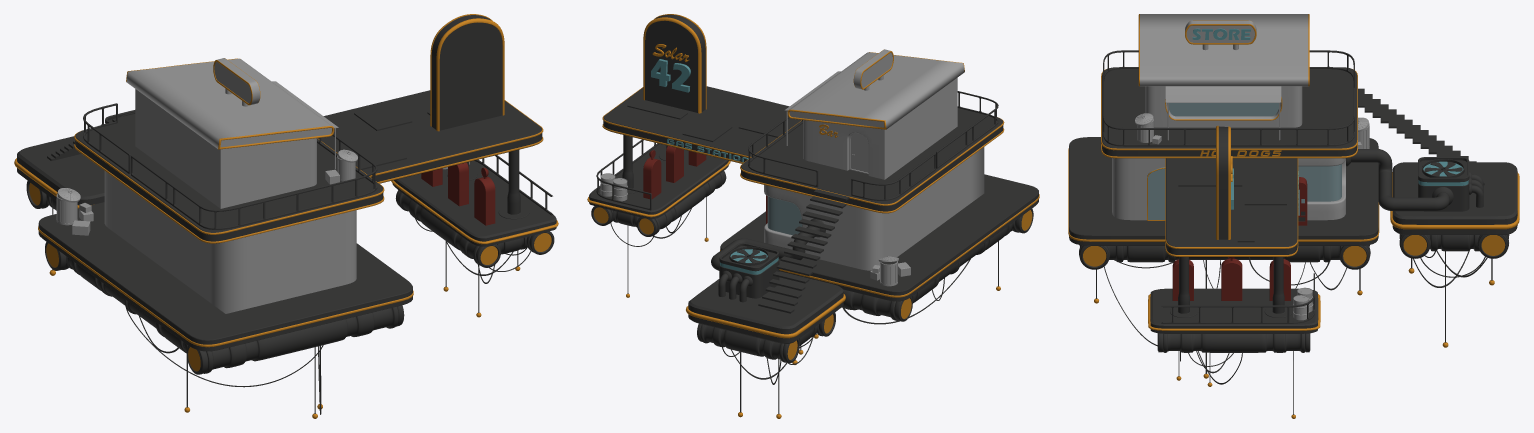
The model's file is Gas Station.fbx.
3 views of the same model, side by side, from view 1: azimuth 30°, elevation 25°; view 2: azimuth 150°, elevation 25°; view 3: azimuth 270°, elevation 25° (orthographic). The views are drawn at different scales.
Visible parts, largest first — view 1: Surface (×3), Roof (×2), structure02, Box404, structure01, Sgin (×2), Pipe (×3), LED strip (×5), railing01, tiles (×2), pole2, Box411 (+4 smaller); view 2: Surface (×3), Roof (×2), structure02, Box404, structure01, Sgin (×2), LED strip (×6), Pipe (×4), tiles (×3), railing01, Box, Window003 (+10 smaller); view 3: Surface (×3), Roof (×2), Box404, Pipe (×2), LED strip (×5), structure02, structure01, tiles (×3), Sgin (×2), railing01, Line007, shed (+15 smaller).
Boxes of the visible parts, <box> form: Surface (×3): <box>17,136,556,351</box>; Roof (×2): <box>126,58,542,183</box>; structure02: <box>104,171,356,313</box>; Box404: <box>75,117,383,243</box>; structure01: <box>135,89,316,208</box>; Sgin (×2): <box>214,15,502,130</box>; Pipe (×3): <box>66,190,500,374</box>; LED strip (×5): <box>38,14,558,347</box>; railing01: <box>83,103,377,229</box>; tiles (×2): <box>325,104,412,170</box>; pole2: <box>498,150,529,219</box>; Box411: <box>474,176,495,225</box>; Surface (×3): <box>589,144,1038,343</box>; Roof (×2): <box>603,52,964,163</box>; structure02: <box>764,147,984,270</box>; Box404: <box>741,108,1003,213</box>; structure01: <box>803,78,957,179</box>; Sgin (×2): <box>645,14,892,112</box>; LED strip (×6): <box>587,14,1039,338</box>; Pipe (×4): <box>636,171,1013,362</box>; tiles (×3): <box>627,100,801,141</box>; railing01: <box>748,91,998,200</box>; Box: <box>719,242,779,298</box>; Window003: <box>767,196,802,235</box>; Surface (×3): <box>1069,137,1517,333</box>; Roof (×2): <box>1140,14,1308,254</box>; Box404: <box>1102,67,1357,158</box>; Pipe (×2): <box>1108,246,1342,352</box>; LED strip (×5): <box>1068,69,1519,330</box>; structure02: <box>1112,158,1345,220</box>; structure01: <box>1145,86,1302,127</box>; tiles (×3): <box>1178,161,1286,242</box>; Sgin (×2): <box>1185,20,1256,239</box>; railing01: <box>1103,50,1354,146</box>; Line007: <box>1351,149,1449,211</box>; shed: <box>1165,86,1281,102</box>.
Size of the model in its own units: 101 by 83.54 by 106.
